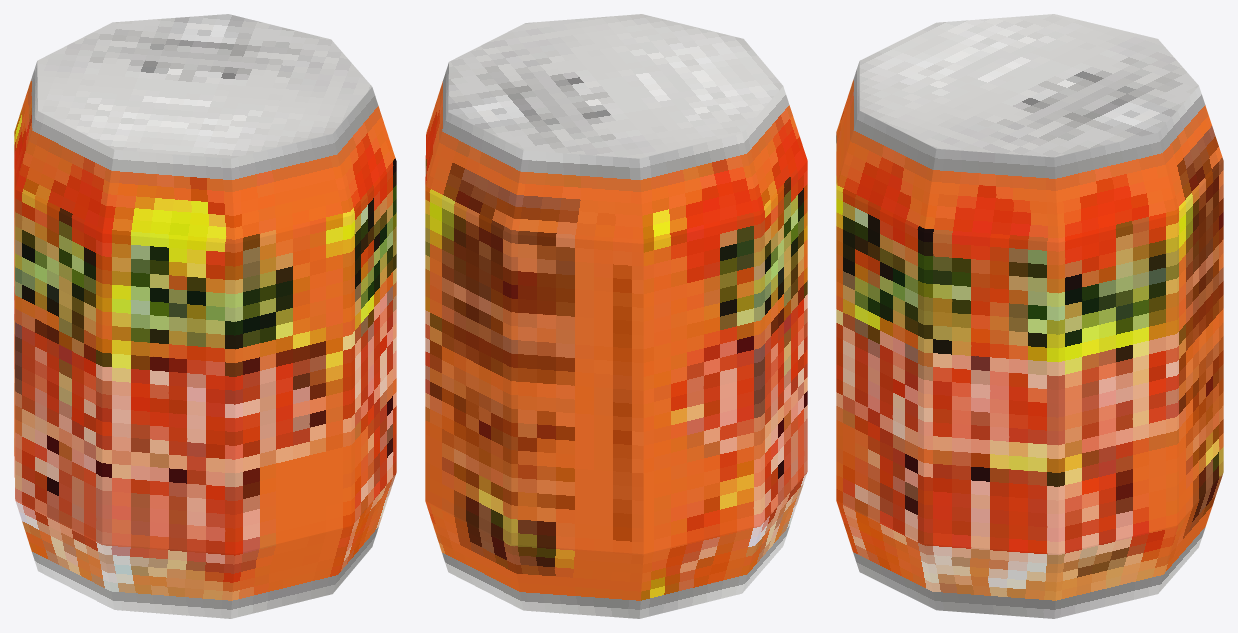
Rendered from drink_can_soda_5.glb.
The picture shows the model from 3 angles, left to right: view 1: azimuth 30°, elevation 25°; view 2: azimuth 150°, elevation 25°; view 3: azimuth 270°, elevation 25°; orthographic projection.
Visible parts, largest first — view 1: Drink_Can_Soda_5; view 2: Drink_Can_Soda_5; view 3: Drink_Can_Soda_5.
Boxes of the visible parts, <box> form: Drink_Can_Soda_5: <box>14,14,396,618</box>; Drink_Can_Soda_5: <box>425,14,807,618</box>; Drink_Can_Soda_5: <box>836,14,1223,618</box>.
Size of the model in its own units: 0.116 by 0.1524 by 0.116.
Materials: 1 (1 with a texture image).
